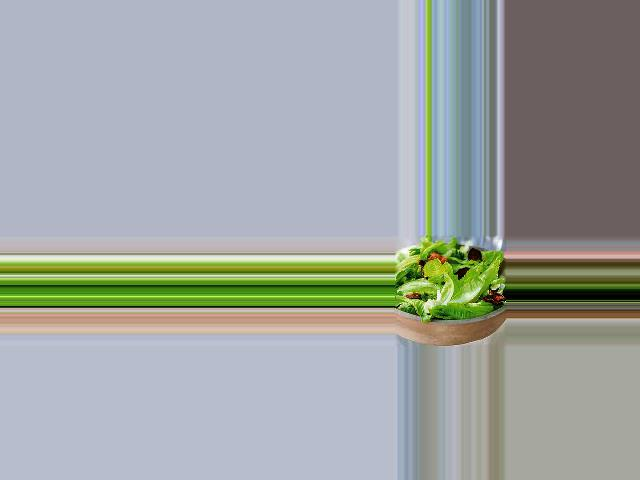lettuce: (401, 242, 495, 320)
